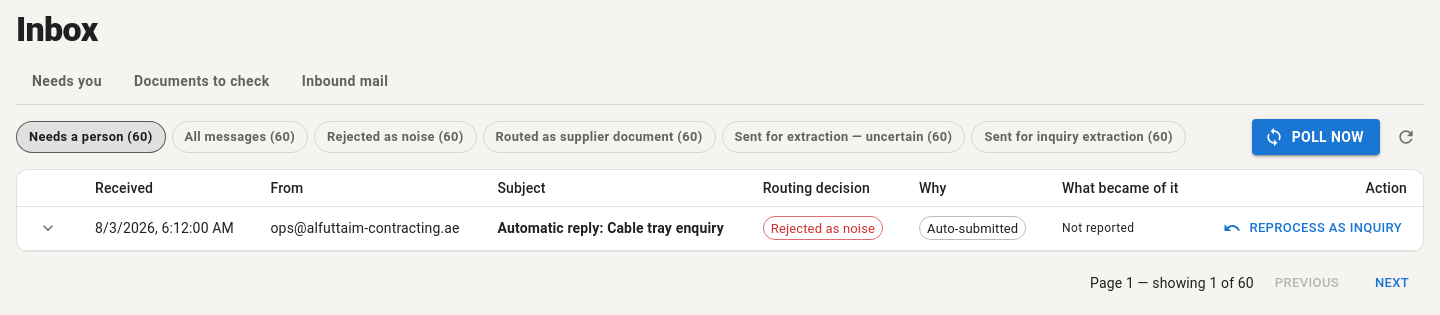
InboundMailTriagePage background refresh › keeps the current rows on screen while the next page loads, instead of a loading panel
Expected: the text "Automatic reply: Cable tray enquiry" is shown, [498,218,731,238]
Step 1. Click the button "Next" → [1392, 283], box [1360,268,1424,299]
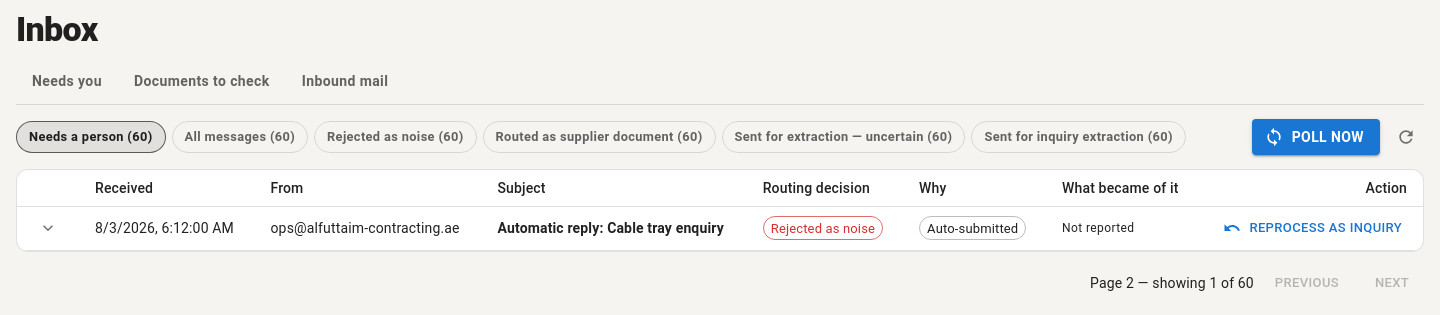
Expected: the text "Automatic reply: Cable tray enquiry" is shown, [498,218,731,238]
Expected: the button "Next" is disabled, [1360,268,1424,299]
